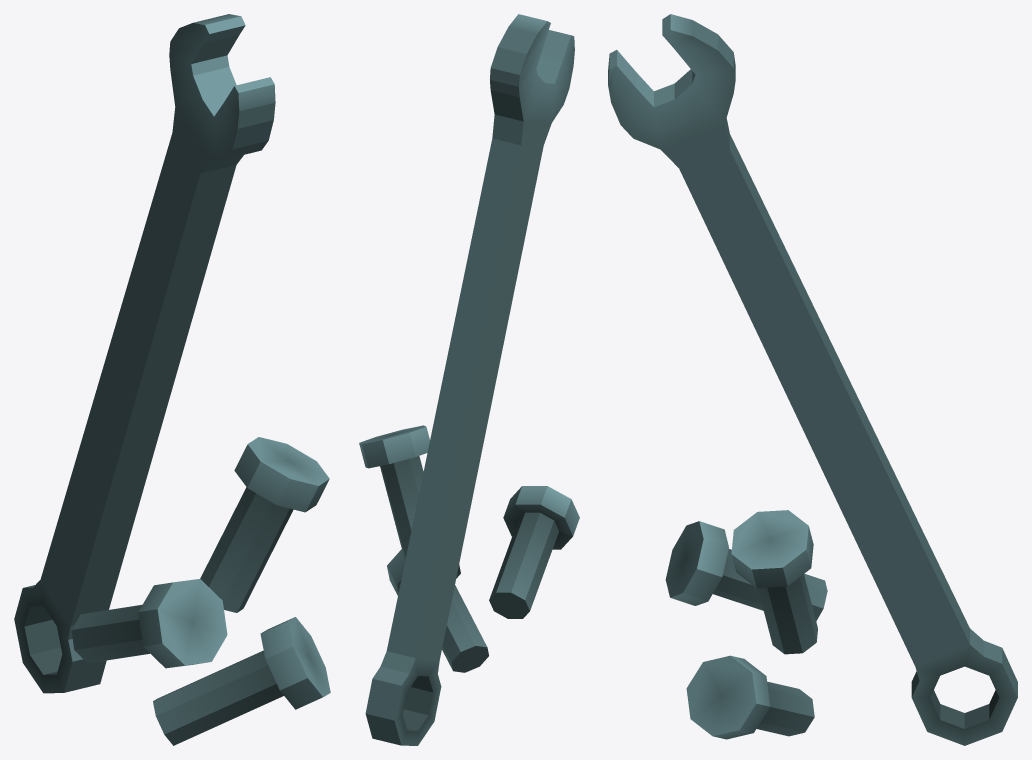
Rendered from Wrench.fbx.
The picture shows the model from 3 angles, left to right: view 1: azimuth 30°, elevation 25°; view 2: azimuth 150°, elevation 25°; view 3: azimuth 270°, elevation 25°; orthographic projection. The views are drawn at different scales.
Visible parts, largest first — view 1: Wrench; view 2: Wrench; view 3: Wrench.
Boxes of the visible parts, x1,y1,x2,y2 form: Wrench: (14,14,330,745); Wrench: (359,14,579,745); Wrench: (608,14,1017,745).
Size of the model in its own units: 31.35 by 103 by 53.61.
